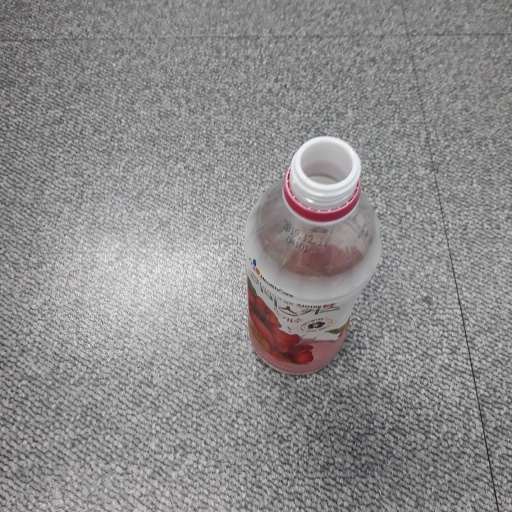Plastic_0: (237, 135, 389, 379)
